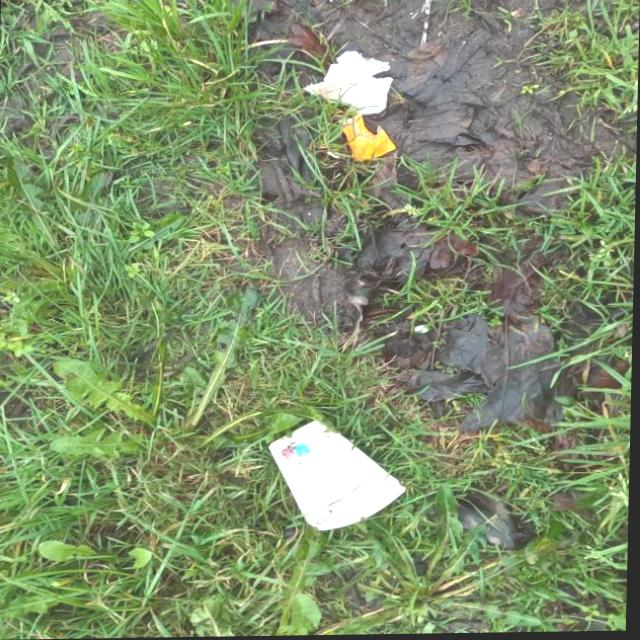Cup: (266, 418, 410, 534)
Paper: (300, 50, 395, 117)
Plastic: (337, 114, 397, 163)
